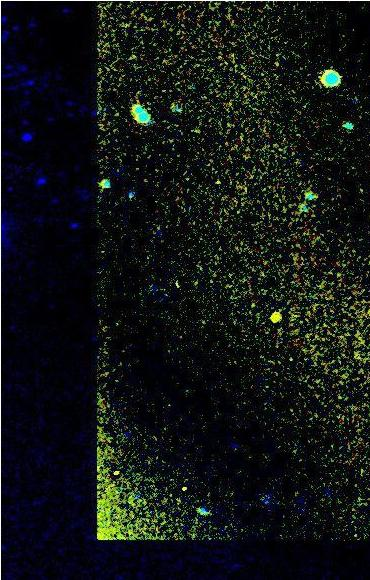star: (262, 301, 292, 331)
